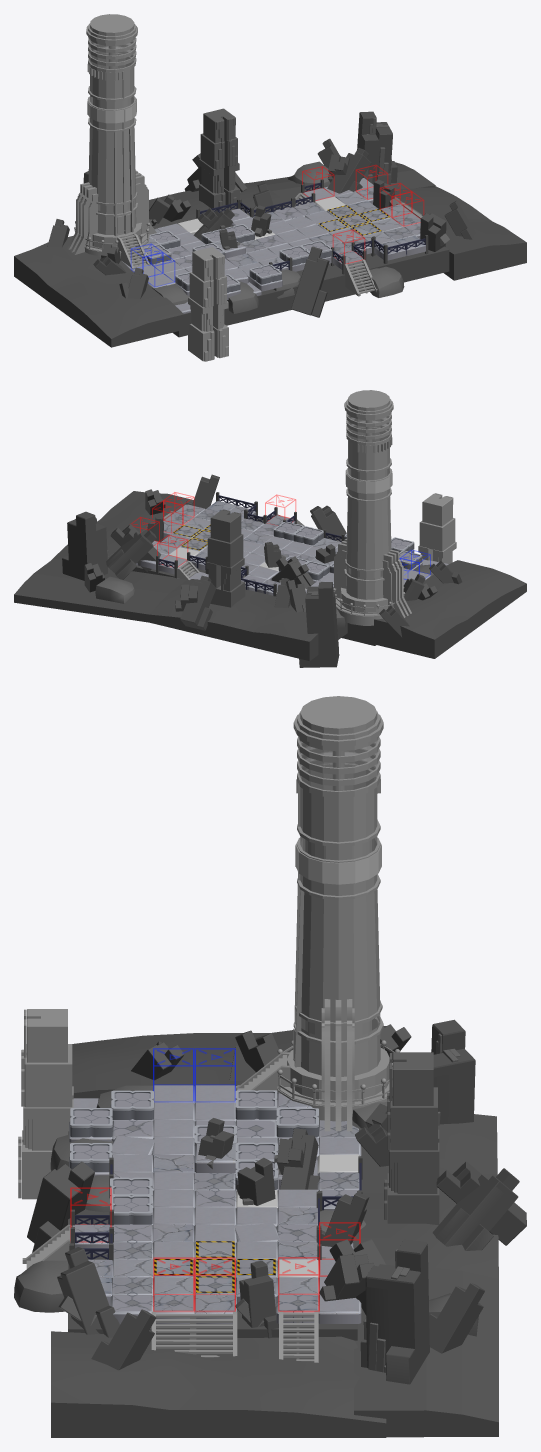
Rendered from 全部文件6.3.FBX.
3 renders of one model, top to bottom at view 1: azimuth 30°, elevation 25°; view 2: azimuth 150°, elevation 25°; view 3: azimuth 270°, elevation 25°, orthographic. The views are drawn at different scales.
Parts seen in each view (by area): view 1: Box336, 对象011, Box052d001, Box052d, 对象013, Box392, Box339, Box399, Box384, Box337, Box408, Box387 (+9 smaller); view 2: Box336, 对象011, Box052d, 对象012, 对象013, Box052d001, Box339, Box403, Box337, Box392, Box384, Box379 (+11 smaller); view 3: Box336, 对象011, Box052d, Box052d001, 对象013, Box403, 对象012, Box392, Box384, Box385, Box339, Box405 (+22 smaller).
Part boxes in pixels (x1,y1,x2,y2): Box336: (14, 161, 526, 347); 对象011: (67, 14, 156, 269); Box052d001: (188, 247, 228, 361); Box052d: (199, 108, 239, 210); 对象013: (357, 111, 397, 185); Box392: (291, 246, 329, 317); Box339: (327, 148, 371, 193); Box399: (344, 259, 377, 296); Box384: (420, 213, 449, 251); Box337: (193, 208, 234, 240); Box408: (444, 200, 475, 239); Box387: (373, 179, 397, 208); Box336: (14, 491, 526, 661); 对象011: (333, 390, 411, 625); Box052d: (206, 509, 245, 607); 对象012: (299, 582, 339, 667); 对象013: (62, 511, 109, 580); Box052d001: (418, 493, 456, 563); Box339: (106, 524, 161, 579); Box403: (175, 575, 216, 630); Box337: (271, 556, 314, 588); Box392: (310, 505, 346, 538); Box384: (185, 474, 219, 508); Box379: (286, 580, 306, 612); Box336: (14, 1026, 498, 1437); 对象011: (236, 696, 400, 1131); Box052d: (384, 1052, 439, 1225); Box052d001: (18, 1009, 73, 1199); 对象013: (360, 1239, 429, 1384); Box403: (432, 1161, 526, 1250); 对象012: (431, 1019, 475, 1125); Box392: (27, 1161, 94, 1252); Box384: (57, 1247, 119, 1337); Box385: (151, 1311, 237, 1357); Box339: (319, 1239, 386, 1315); Box405: (429, 1283, 484, 1353).
Bounding box in the file's own units: 742 × 462 × 461.
